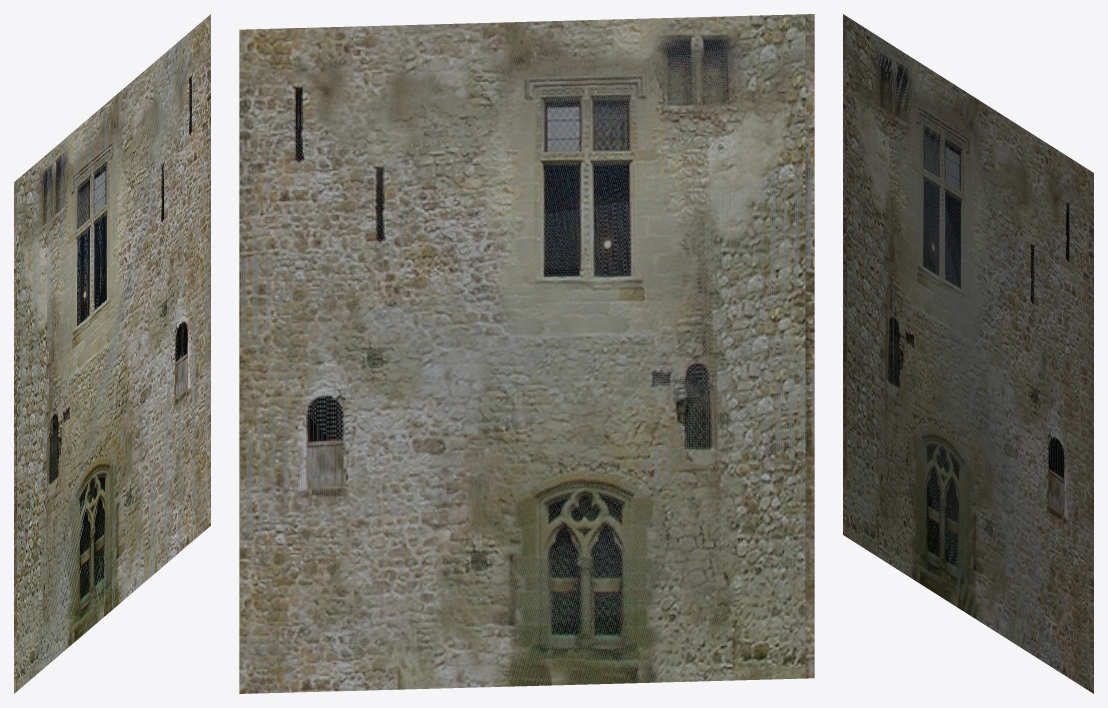
Rendered from 西庸城堡711.dae.
The picture shows the model from 3 angles, left to right: view 1: azimuth 30°, elevation 25°; view 2: azimuth 150°, elevation 25°; view 3: azimuth 270°, elevation 25°; orthographic projection. The views are drawn at different scales.
Parts seen in each view (by area): view 1: SketchUp; view 2: SketchUp; view 3: SketchUp.
Boxes of the visible parts, x1,y1,x2,y2 form: SketchUp: (14, 14, 210, 693); SketchUp: (239, 14, 814, 693); SketchUp: (843, 14, 1093, 693).
Bounding box in the file's own units: 250 × 167 × 382.
